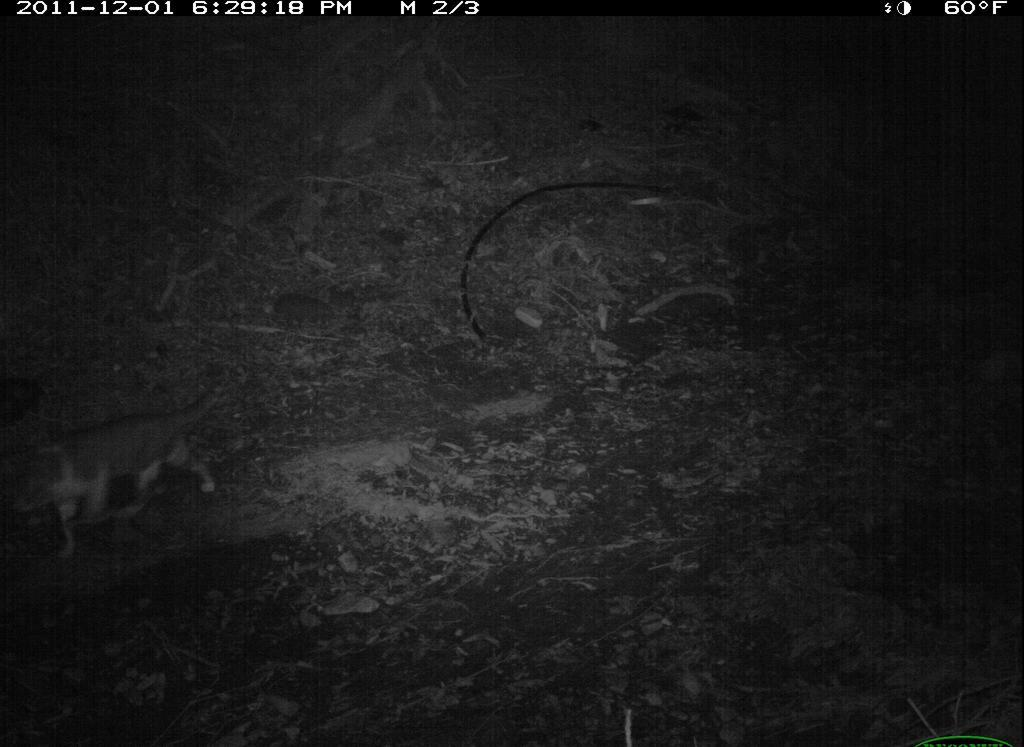cat: (11, 405, 248, 552)
